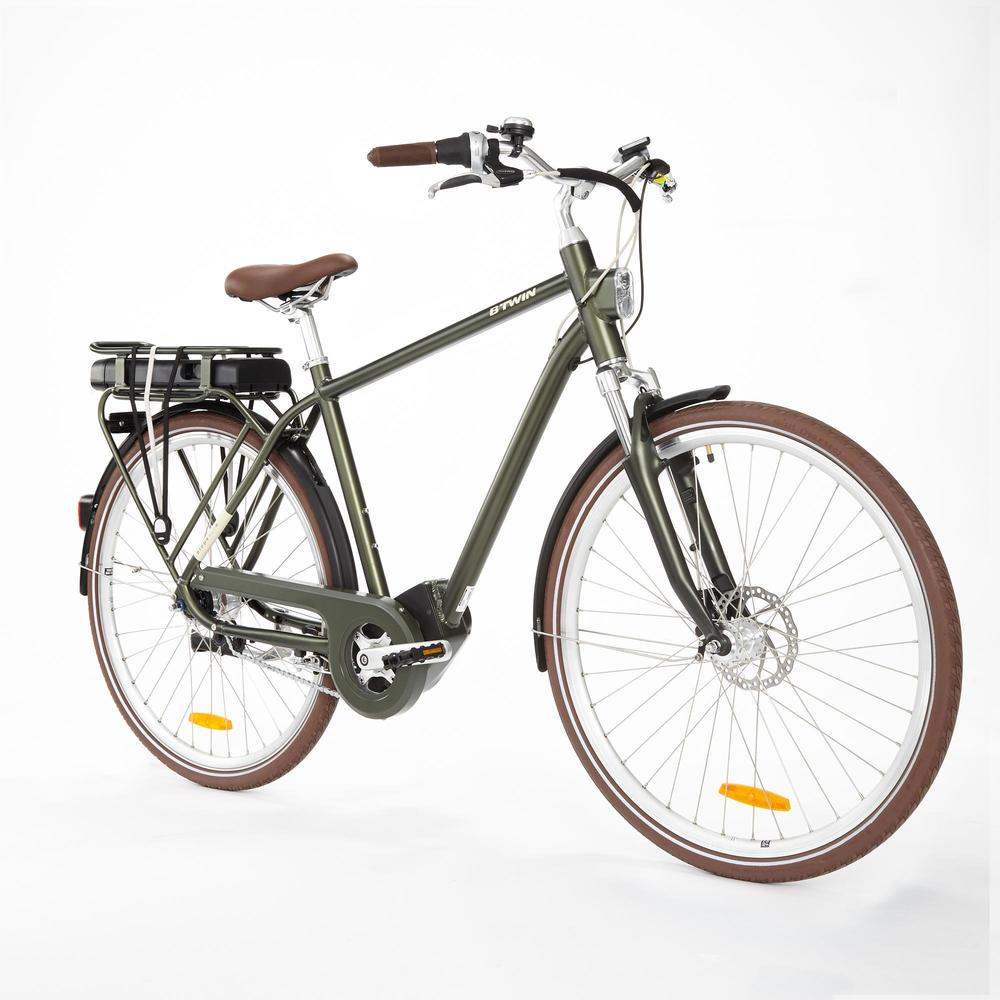UrbanBike: (78, 103, 975, 873)
